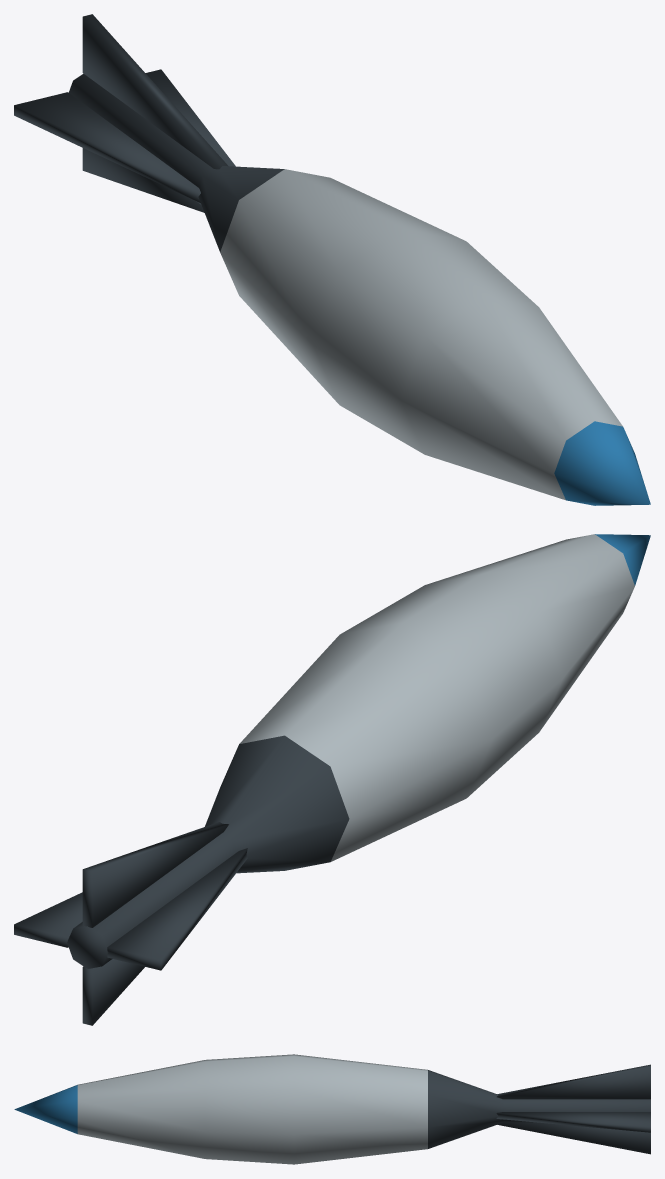
The model's file is mortar_81_projectile_game.glb.
3 views of the same model, one above another, from view 1: azimuth 30°, elevation 25°; view 2: azimuth 150°, elevation 25°; view 3: azimuth 270°, elevation 25° (orthographic). The views are drawn at different scales.
Visible parts, largest first — view 1: AMMO_MESH.032; view 2: AMMO_MESH.032; view 3: AMMO_MESH.032.
Part boxes in pixels (x1,y1,x2,y2): AMMO_MESH.032: [14, 14, 650, 505]; AMMO_MESH.032: [14, 534, 650, 1025]; AMMO_MESH.032: [14, 1054, 650, 1164].
Size of the model in its own units: 0.081 by 0.081 by 0.44.
